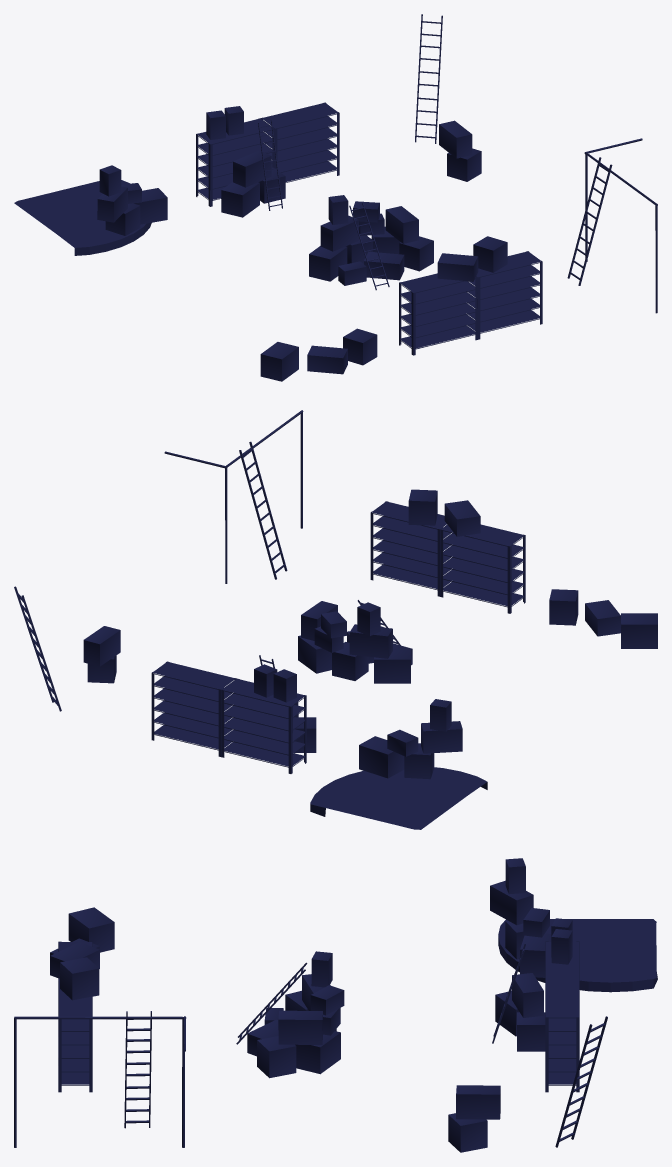
The model's file is Store_inside.fbx.
3 renders of one model, top to bottom at view 1: azimuth 30°, elevation 25°; view 2: azimuth 150°, elevation 25°; view 3: azimuth 270°, elevation 25°, orthographic. The views are drawn at different scales.
Visible parts, largest first — view 1: 430x210x270_1.004; view 2: 430x210x270_1.004; view 3: 430x210x270_1.004.
Boxes of the visible parts, bbox=[...] form: 430x210x270_1.004: bbox=[14, 14, 657, 381]; 430x210x270_1.004: bbox=[14, 410, 657, 829]; 430x210x270_1.004: bbox=[14, 858, 657, 1152].
Size of the model in its own units: 1904 by 488 by 2045.
